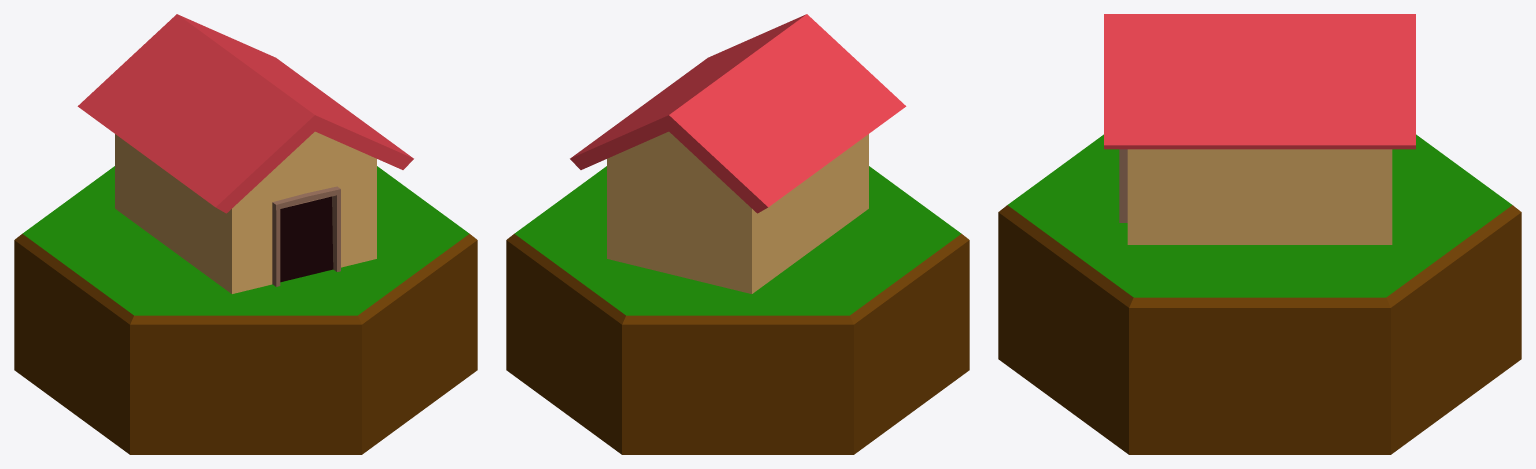
Rendered from town_center.fbx.
The picture shows the model from 3 angles, left to right: view 1: azimuth 30°, elevation 25°; view 2: azimuth 150°, elevation 25°; view 3: azimuth 270°, elevation 25°; orthographic projection. The views are drawn at different scales.
Parts seen in each view (by area): view 1: ground, towncenter; view 2: ground, towncenter; view 3: ground, towncenter.
Boxes of the visible parts, left/top/right/bottom form: ground: left=14, top=166, right=477, bottom=454; towncenter: left=77, top=14, right=413, bottom=293; ground: left=506, top=166, right=969, bottom=454; towncenter: left=570, top=14, right=906, bottom=293; ground: left=998, top=134, right=1521, bottom=454; towncenter: left=1104, top=14, right=1415, bottom=244.
Size of the model in its own units: 1.73 by 1.46 by 2.
